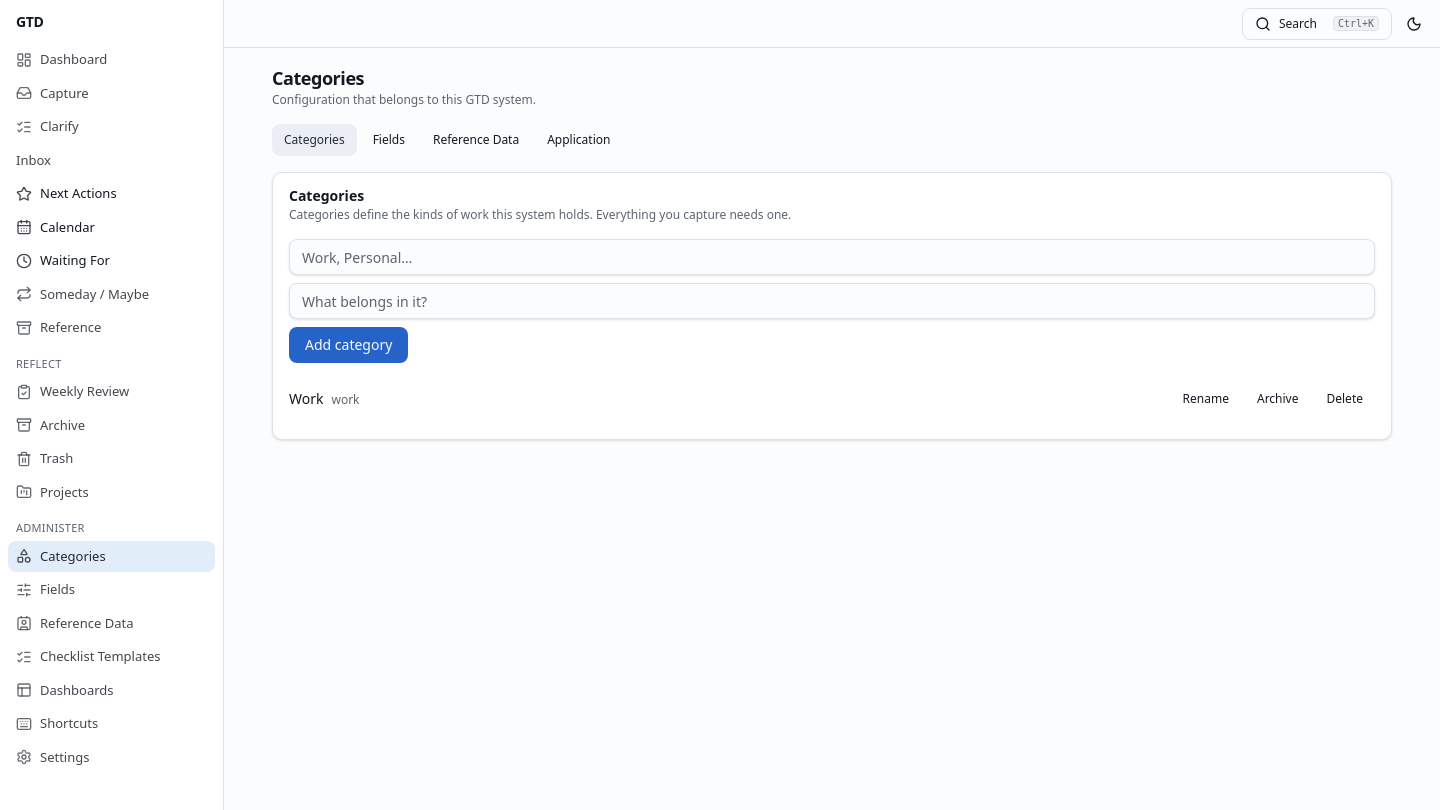
Scenario: categories › says so when creating fails
Type "Home" into the field named "New category name" at (832, 257), box [289,239,1375,275]
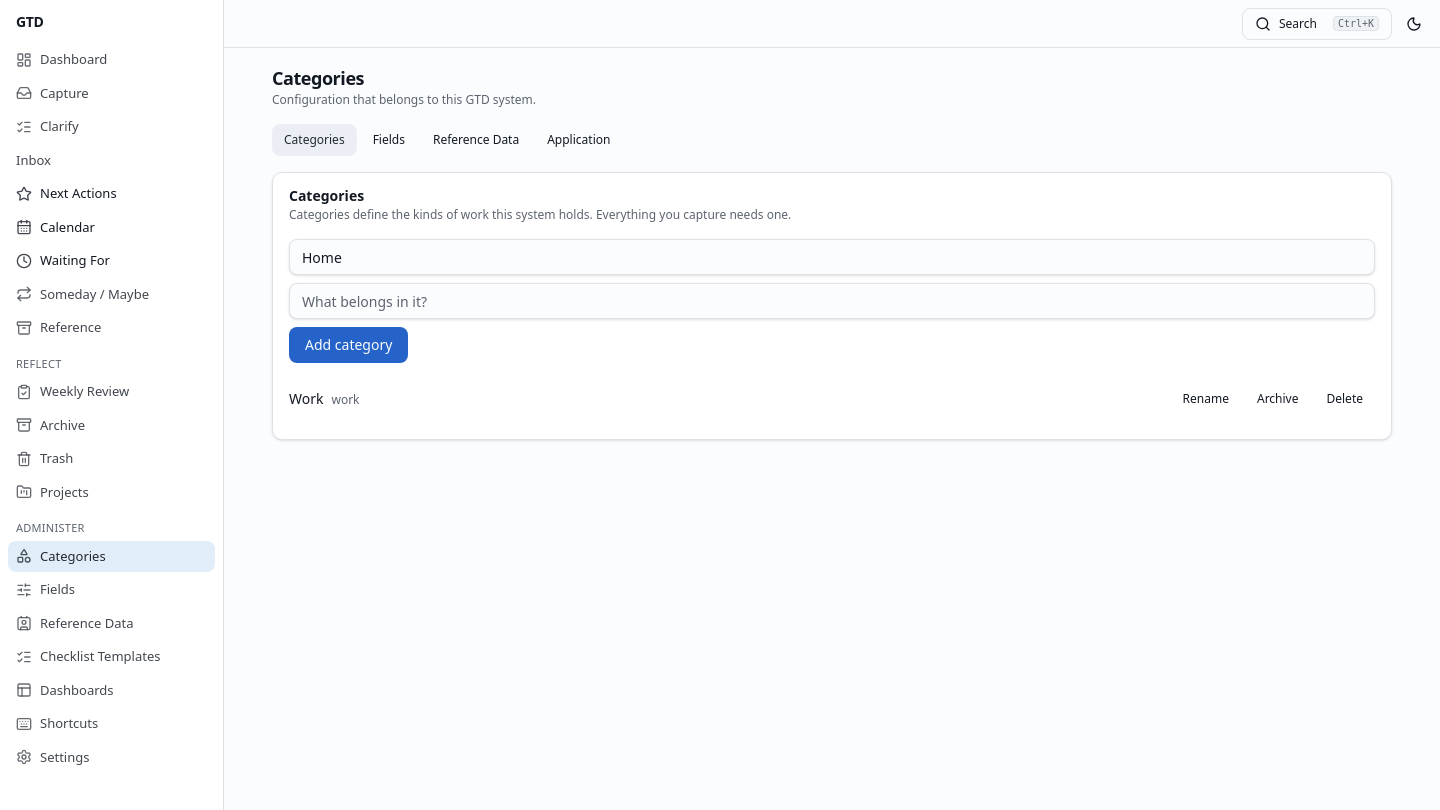
Click the button "Add category" at (349, 345), box [289,327,408,363]
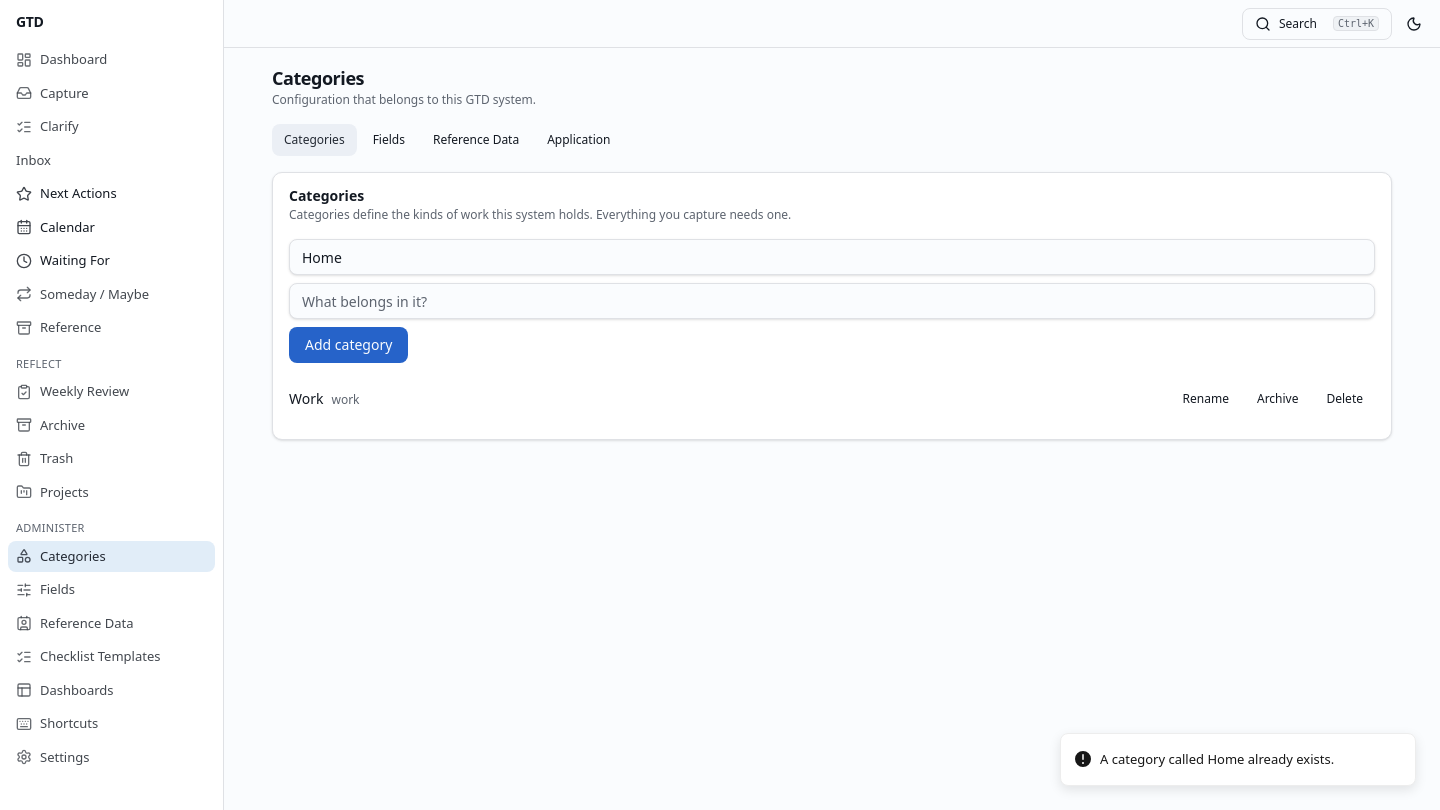
Now the text "already exists" is shown, box [1100,750,1334,768]
